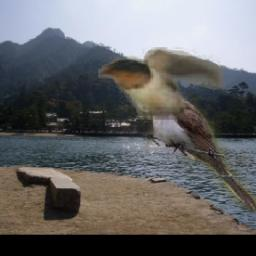Cuckoo: (141, 92, 256, 212)
Swallow: (99, 47, 226, 120)
